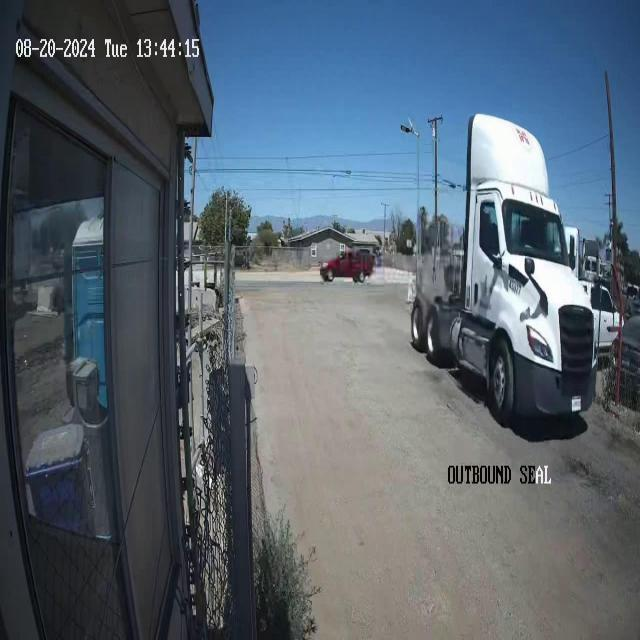TRUCK_IN: (409, 111, 604, 429)
